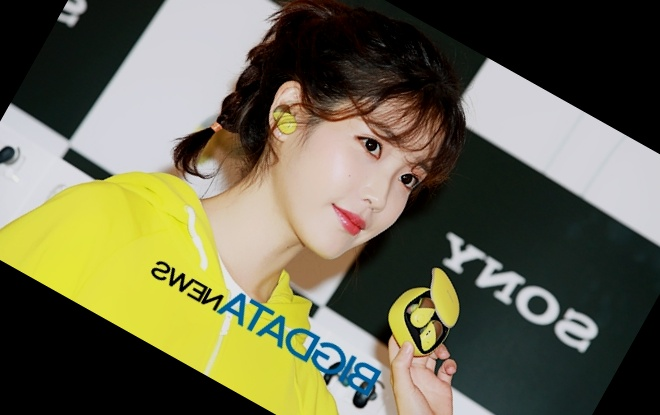earphone: (255, 75, 316, 145)
